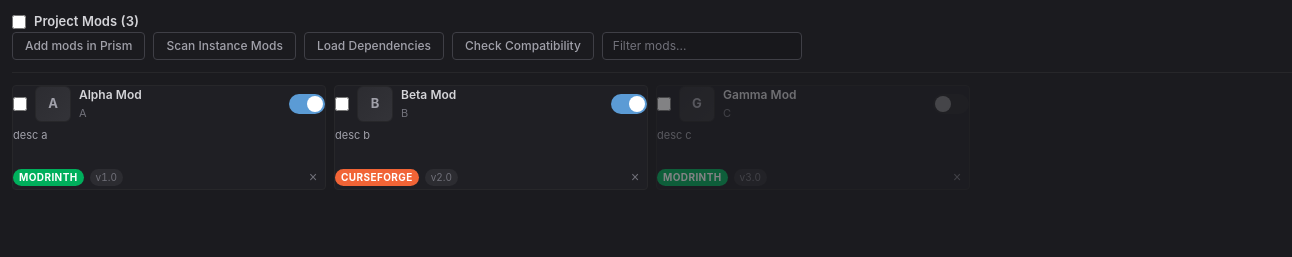
Test case: ModsTab › header checkbox selects every filtered mod
What coordinates should you click on to do the following:
click the checkbox named "Select all visible mods"
I would click on:
 (19, 22)
Its box is top-left (12, 15), bottom-right (26, 29).
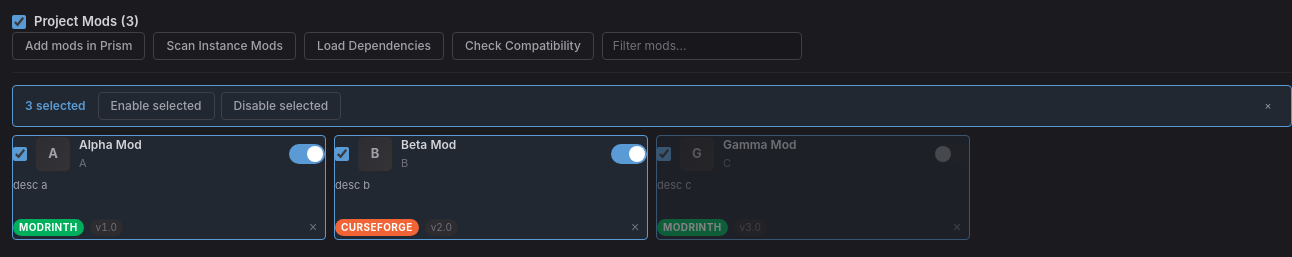
Check: the text "3 selected" is shown, box top-left (25, 96), bottom-right (86, 114)
Check: the checkbox named "Select Alpha Mod" is checked, box top-left (13, 146), bottom-right (27, 160)
Check: the checkbox named "Select Gamma Mod" is checked, box top-left (657, 146), bottom-right (671, 160)
